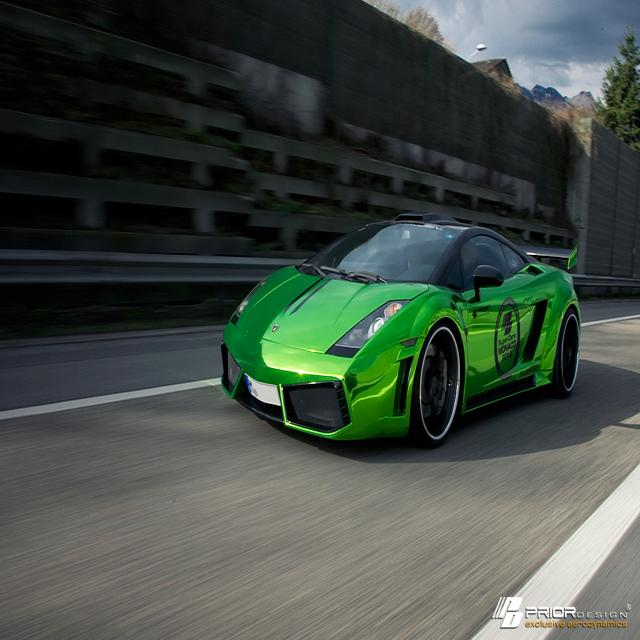car: (212, 206, 580, 445)
